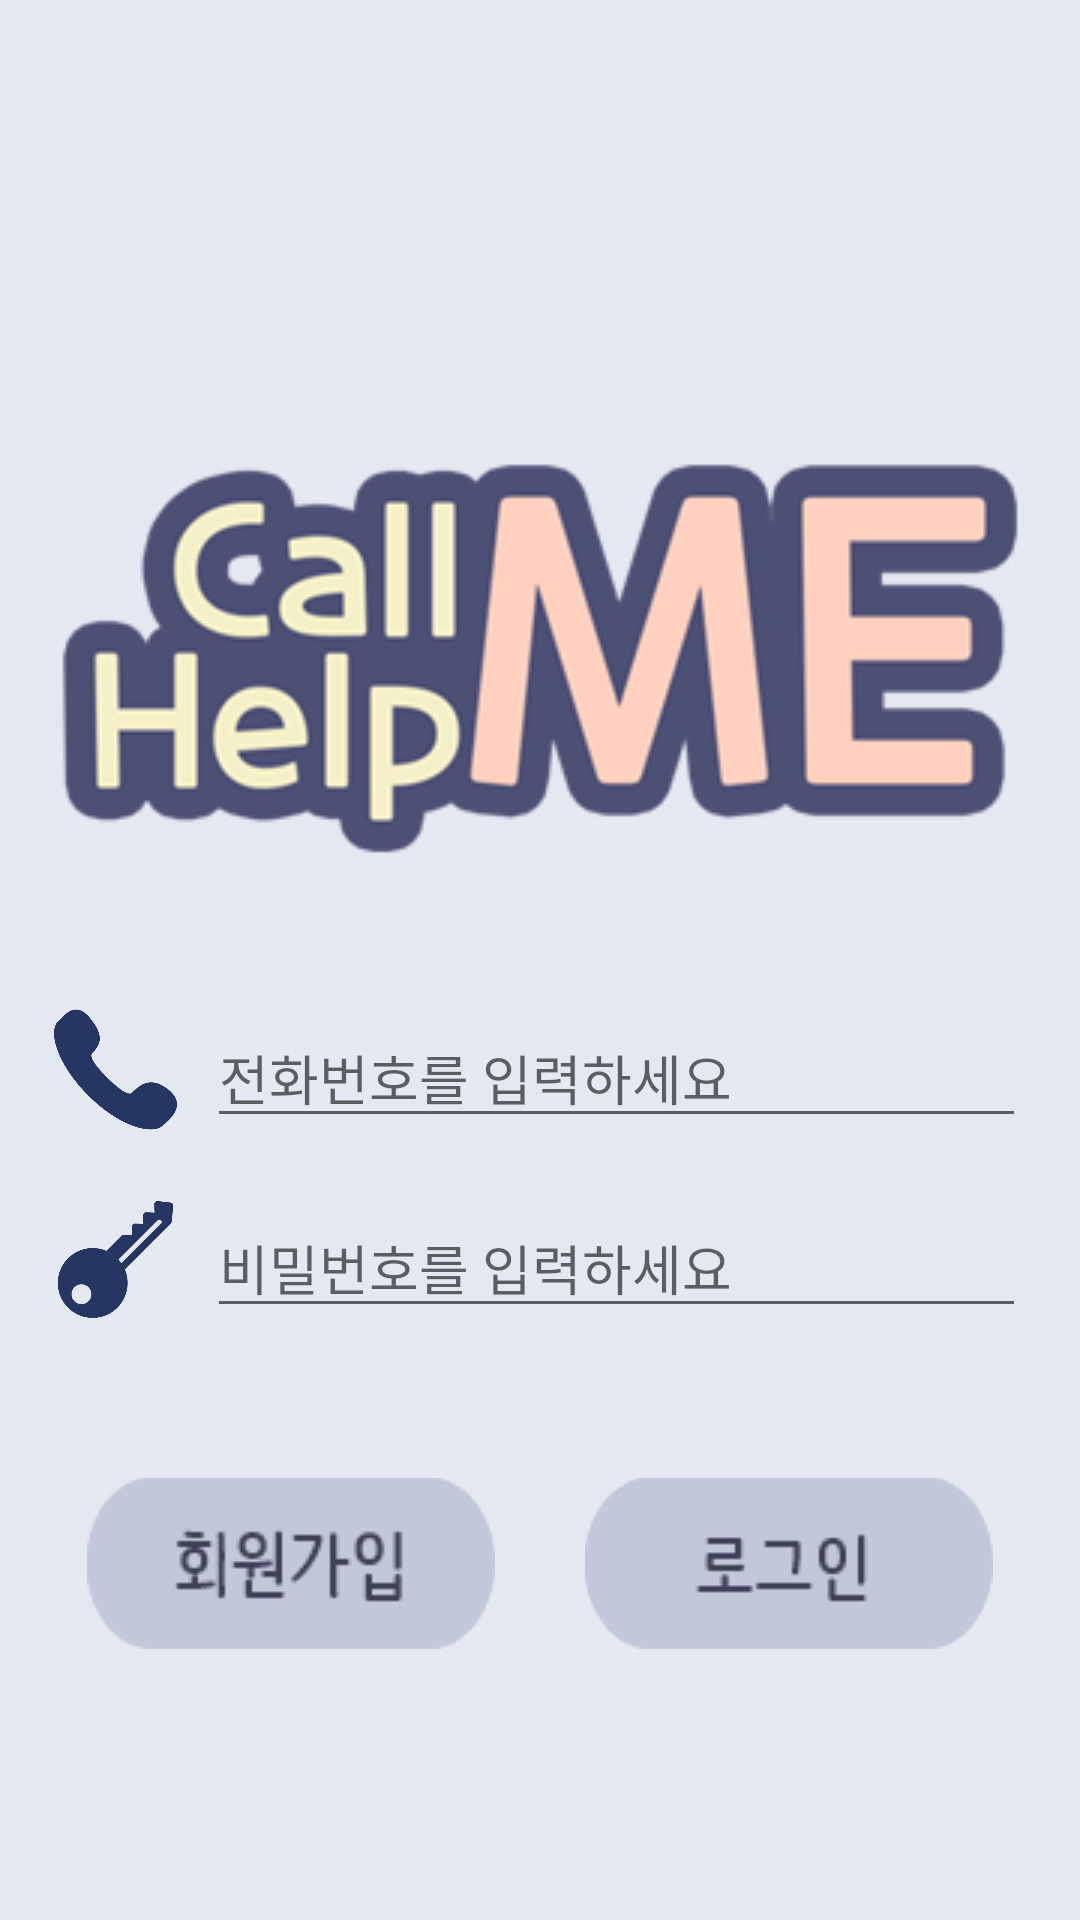

Where icons sit on this 1080x1920 app screen, as (x1, y1, x2, y2):
call: (54, 1009, 177, 1130)
key: (58, 1201, 173, 1318)
